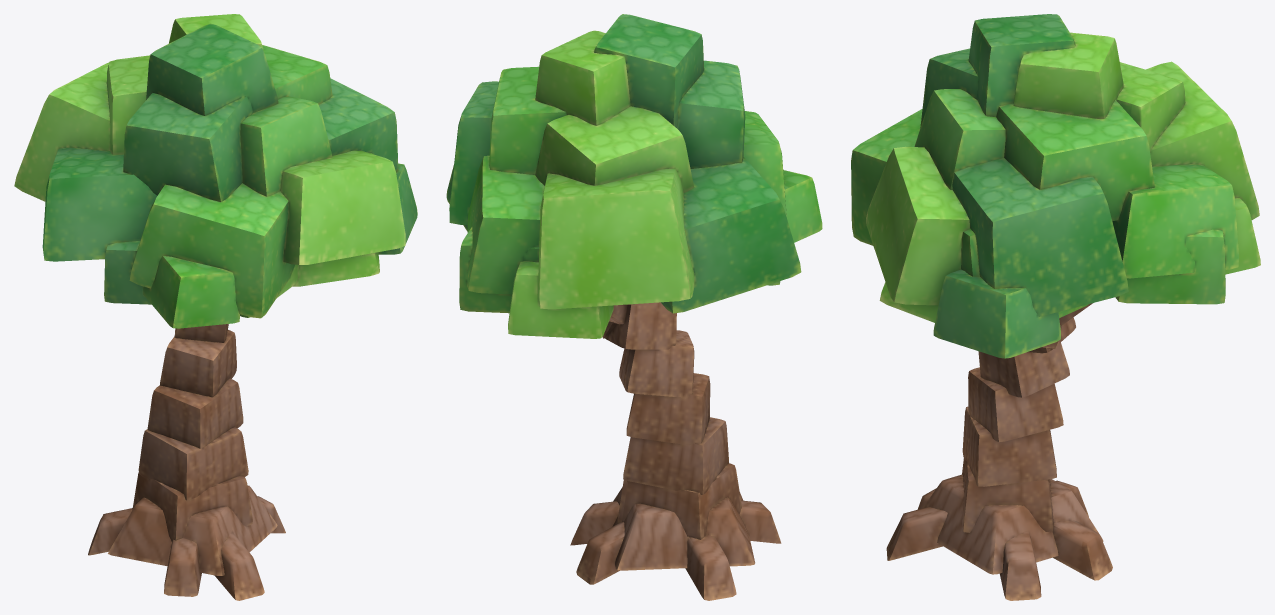
Rendered from ArbreMajestueux_B.fbx.
3 renders of one model, left to right at view 1: azimuth 30°, elevation 25°; view 2: azimuth 150°, elevation 25°; view 3: azimuth 270°, elevation 25°, orthographic. The views are drawn at different scales.
Visible parts, largest first — view 1: ArbreMajestueux_B; view 2: ArbreMajestueux_B; view 3: ArbreMajestueux_B.
Boxes of the visible parts, <box> form: ArbreMajestueux_B: <box>14,14,417,600</box>; ArbreMajestueux_B: <box>446,14,822,600</box>; ArbreMajestueux_B: <box>851,14,1260,600</box>.
Size of the model in its own units: 1448 by 1947 by 1340.
1 material, 1 textured.
